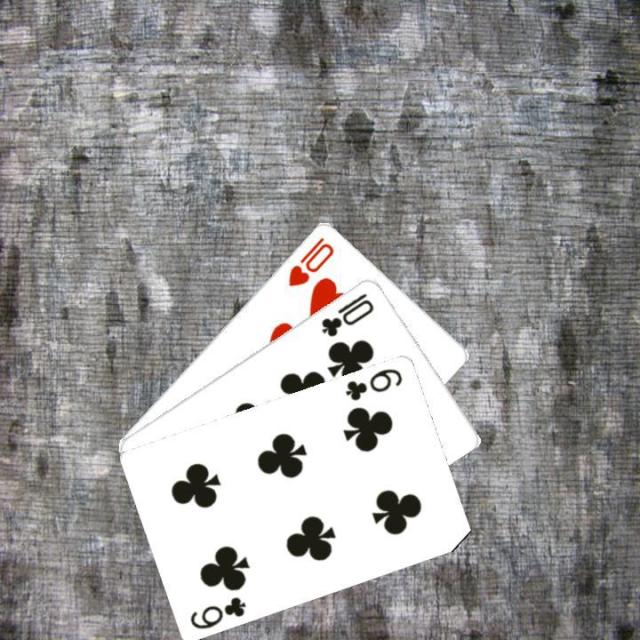10C: (317, 288, 376, 339)
10H: (284, 233, 336, 288)
6C: (342, 363, 404, 402), (187, 592, 249, 630)
